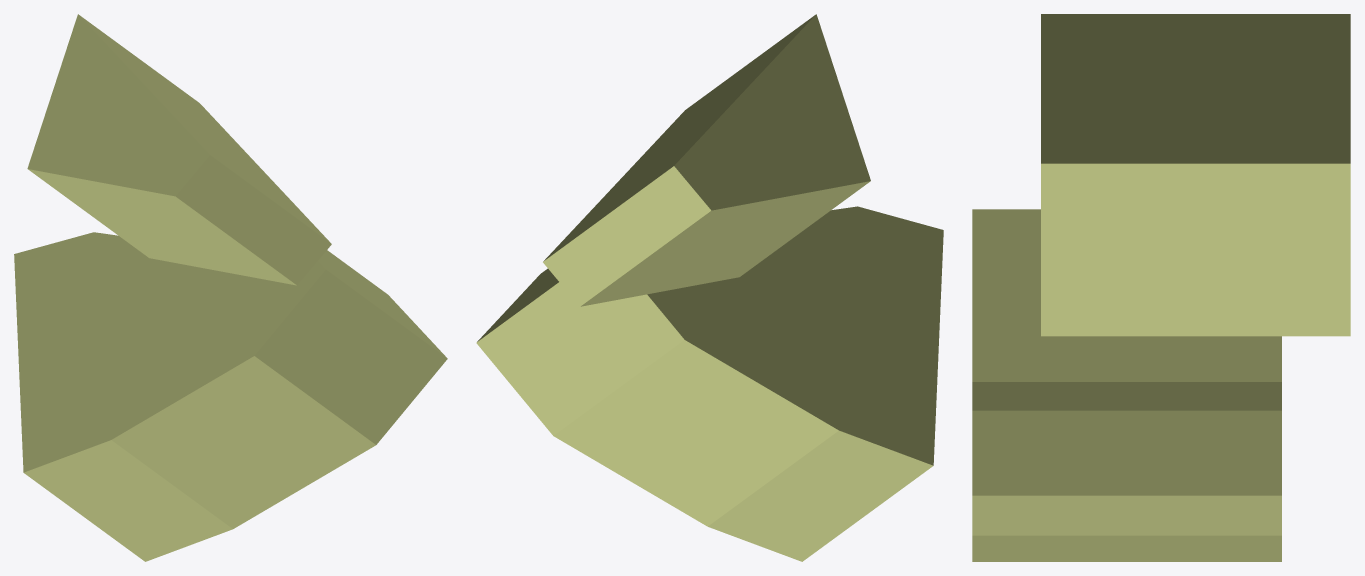
3 renders of one model, left to right at view 1: azimuth 30°, elevation 25°; view 2: azimuth 150°, elevation 25°; view 3: azimuth 270°, elevation 25°, orthographic. The views are drawn at different scales.
Parts seen in each view (by area): view 1: 0_0_1_3_1_1_2_1_2_1; view 2: 0_0_1_3_1_1_2_1_2_1; view 3: 0_0_1_3_1_1_2_1_2_1.
Boxes of the visible parts, box(x1,y1,x2,y2) form: 0_0_1_3_1_1_2_1_2_1: box(14, 14, 447, 561); 0_0_1_3_1_1_2_1_2_1: box(476, 14, 943, 561); 0_0_1_3_1_1_2_1_2_1: box(972, 14, 1350, 561).
Size of the model in its own units: 13.29 by 17.07 by 11.
